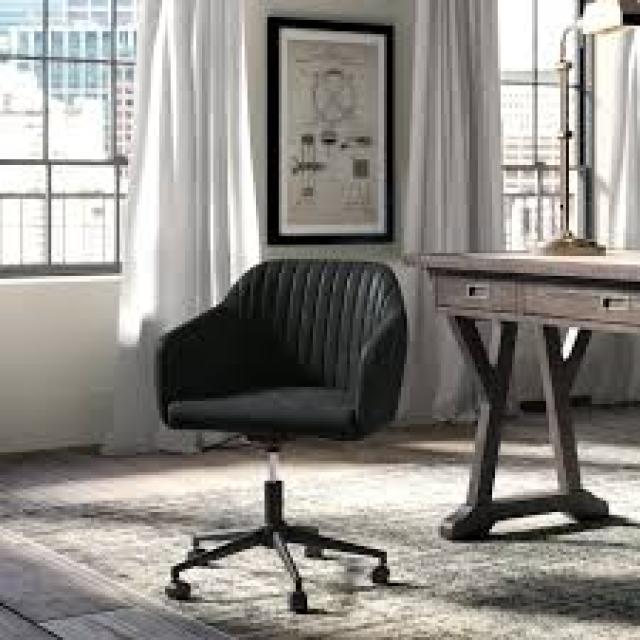chair: (94, 203, 440, 640)
